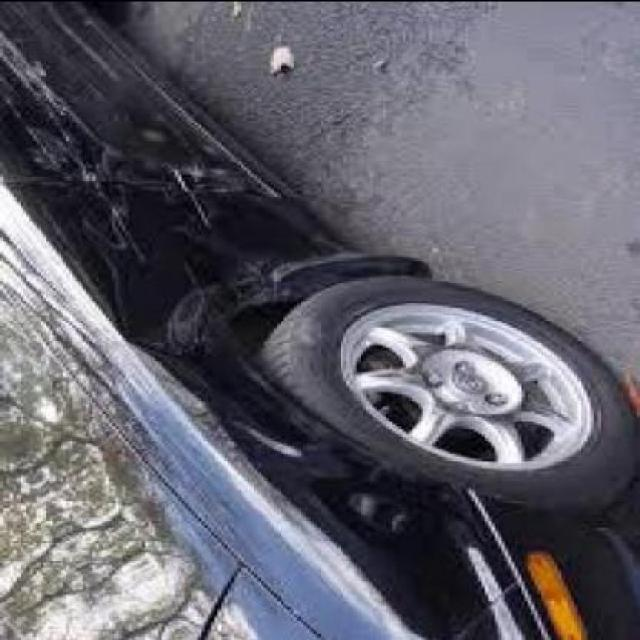damage: (162, 154, 277, 238)
